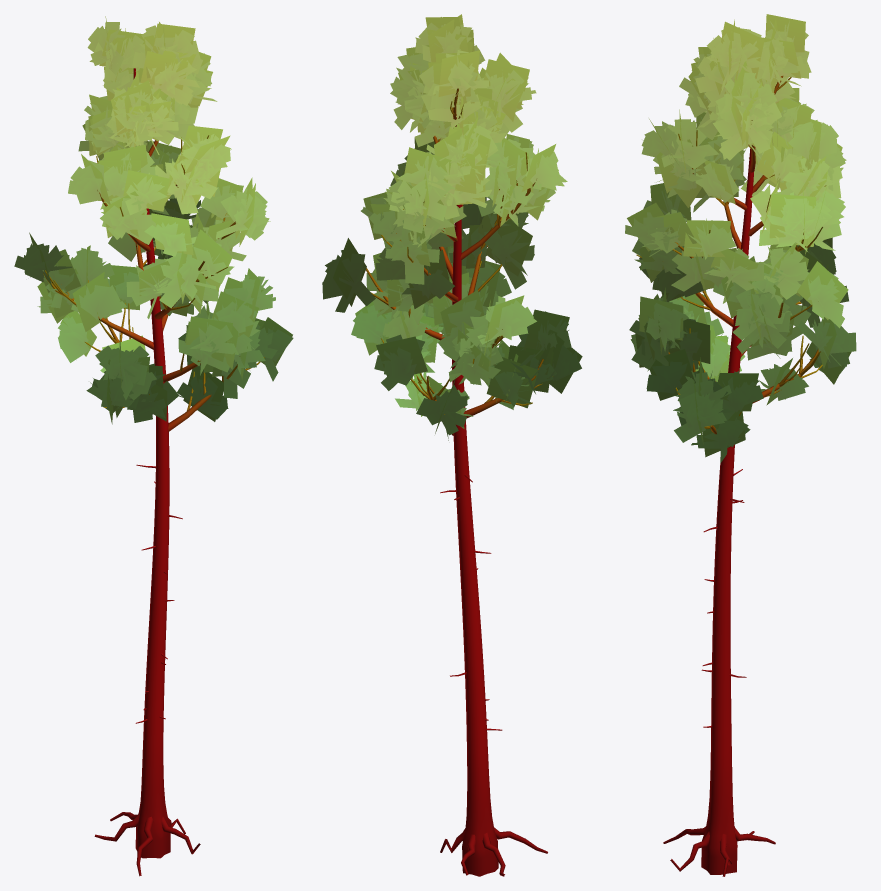
Rendered from pine_c.glb.
3 views of the same model, side by side, from view 1: azimuth 30°, elevation 25°; view 2: azimuth 150°, elevation 25°; view 3: azimuth 270°, elevation 25° (orthographic). The views are drawn at different scales.
Parts seen in each view (by area): view 1: LOD0; view 2: LOD0; view 3: LOD0.
Boxes of the visible parts, x1=… form: LOD0: x1=14, y1=16, x2=293, y2=876; LOD0: x1=322, y1=14, x2=582, y2=876; LOD0: x1=625, y1=14, x2=856, y2=876.
Size of what is drawn, in the model's own units: 5.38 by 19.01 by 5.15.
